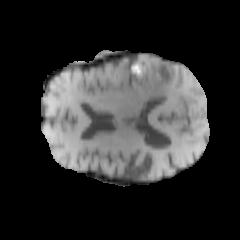glioma: (105, 56, 183, 104)
